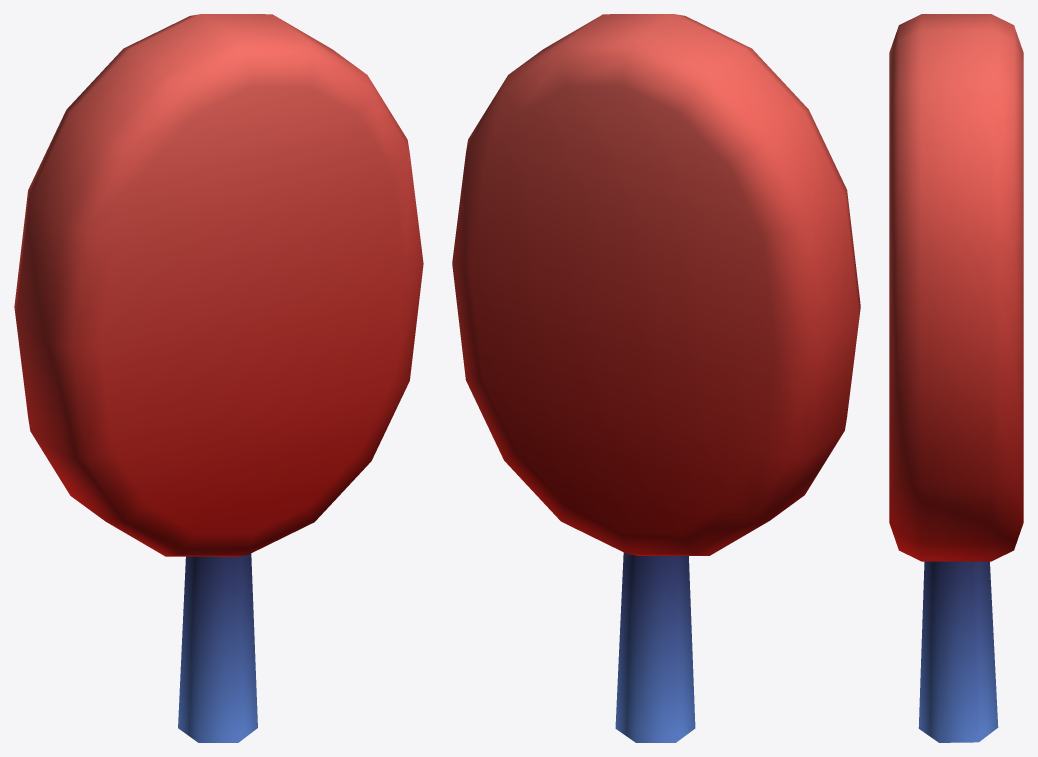
File: m_ChewingGumIceCream01.fbx
The picture shows the model from 3 angles, left to right: view 1: azimuth 30°, elevation 25°; view 2: azimuth 150°, elevation 25°; view 3: azimuth 270°, elevation 25°; orthographic projection.
Visible parts, largest first — view 1: m_ChewingGumIceCream01; view 2: m_ChewingGumIceCream01; view 3: m_ChewingGumIceCream01.
Boxes of the visible parts, <box> form: m_ChewingGumIceCream01: <box>14,14,423,742</box>; m_ChewingGumIceCream01: <box>452,14,860,742</box>; m_ChewingGumIceCream01: <box>889,14,1023,742</box>.
Bounding box in the file's own units: 12.68 × 22.97 × 4.
